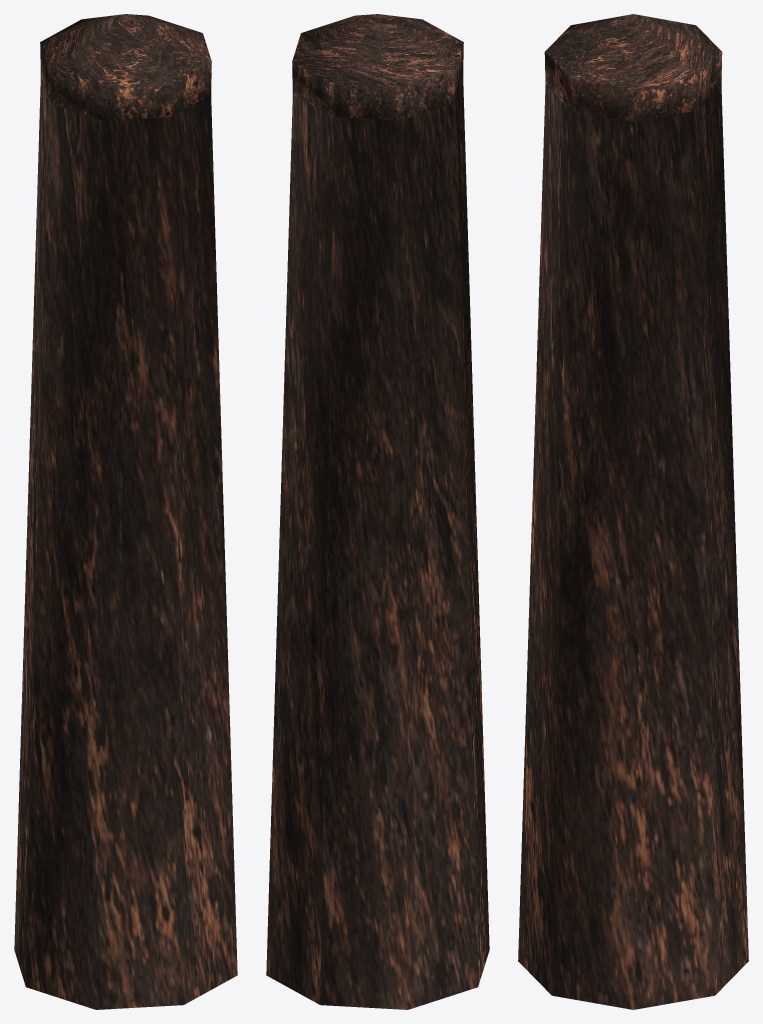
File: metal column_LOD2.fbx
3 views of the same model, side by side, from view 1: azimuth 30°, elevation 25°; view 2: azimuth 150°, elevation 25°; view 3: azimuth 270°, elevation 25° (orthographic).
Parts seen in each view (by area): view 1: column_LOD2; view 2: column_LOD2; view 3: column_LOD2.
Boxes of the visible parts, x1,y1,x2,y2 form: column_LOD2: (14, 14, 237, 1009); column_LOD2: (266, 14, 489, 1009); column_LOD2: (518, 14, 748, 1009).
Size of the model in its own units: 0.3266 by 1.48 by 0.3266.
